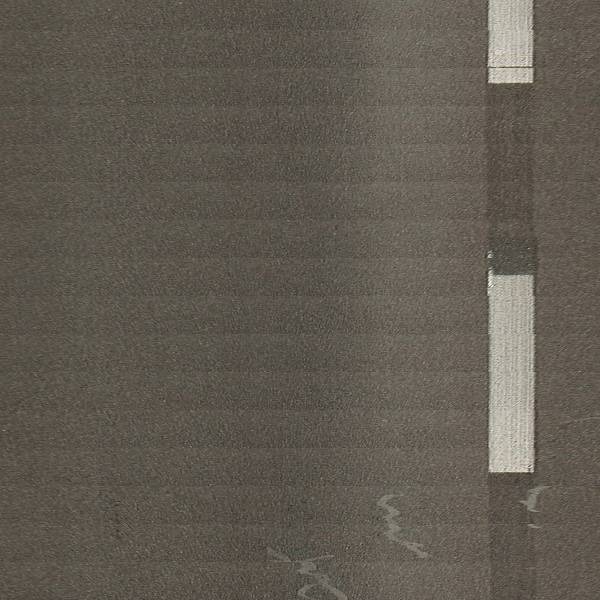road_damage: (376, 486, 440, 571), (259, 543, 352, 600), (519, 481, 555, 536)
